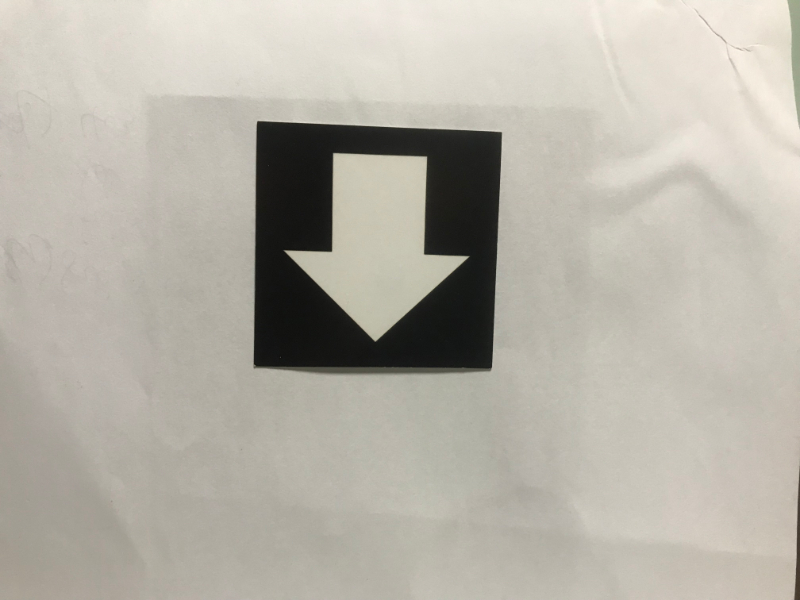UA-1: (263, 134, 489, 361)
